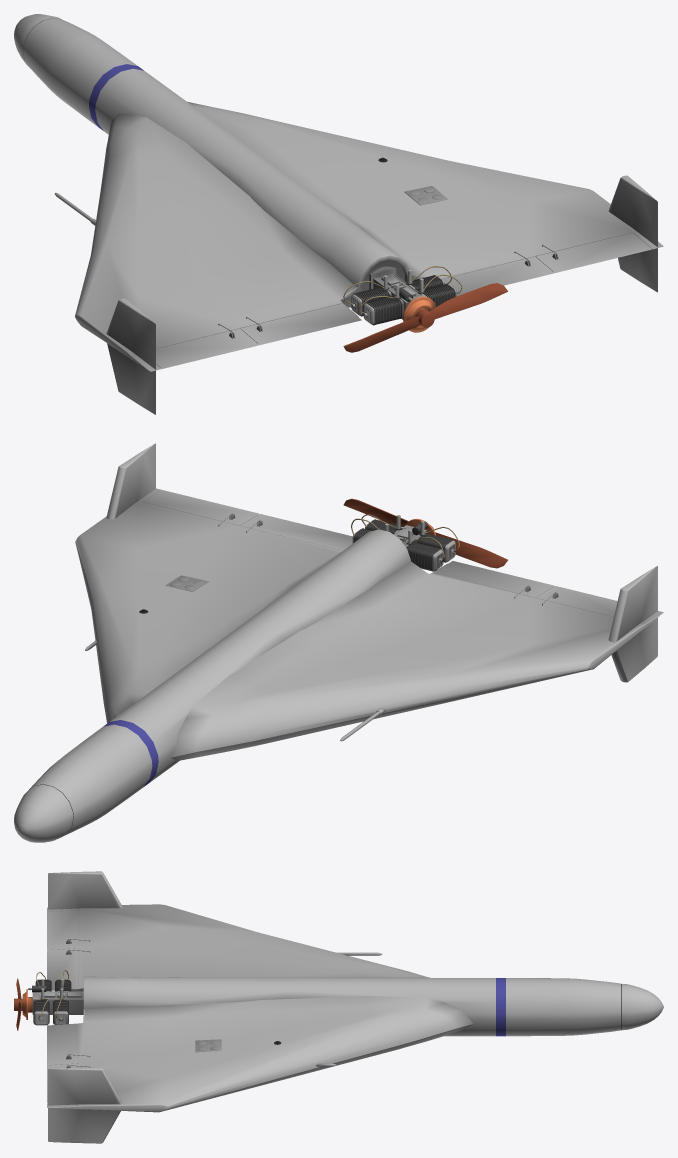
Rendered from d_shahed.glb.
The picture shows the model from 3 angles, top to bottom: view 1: azimuth 30°, elevation 25°; view 2: azimuth 150°, elevation 25°; view 3: azimuth 270°, elevation 25°; orthographic projection. The views are drawn at different scales.
Parts seen in each view (by area): view 1: body|Main, prop|Kayu, prop|Dark_Steel.001, body|Mesin_Silver.002, body|Dark_Steel.001, body|Abu_abu, body|Main.Biru; view 2: body|Main, prop|Kayu, prop|Dark_Steel.001, body|Dark_Steel.001, body|Main.Biru; view 3: body|Main, body|Mesin_Silver.002, body|Main.Biru, prop|Dark_Steel.001, body|Abu_abu.
Boxes of the visible parts, x1=… form: body|Main: x1=14, y1=14, x2=663, y2=414; prop|Kayu: x1=343, y1=283, x2=507, y2=352; prop|Dark_Steel.001: x1=365, y1=284, x2=455, y2=325; body|Mesin_Silver.002: x1=351, y1=266, x2=444, y2=319; body|Dark_Steel.001: x1=353, y1=275, x2=443, y2=316; body|Abu_abu: x1=229, y1=186, x2=558, y2=338; body|Main.Biru: x1=89, y1=64, x2=143, y2=130; body|Main: x1=14, y1=443, x2=663, y2=842; prop|Kayu: x1=343, y1=498, x2=507, y2=568; prop|Dark_Steel.001: x1=366, y1=519, x2=453, y2=562; body|Dark_Steel.001: x1=354, y1=528, x2=441, y2=571; body|Main.Biru: x1=103, y1=720, x2=158, y2=787; body|Main: x1=47, y1=871, x2=663, y2=1143; body|Mesin_Silver.002: x1=32, y1=979, x2=83, y2=1024; body|Main.Biru: x1=496, y1=978, x2=505, y2=1036; prop|Dark_Steel.001: x1=32, y1=979, x2=51, y2=1025; body|Abu_abu: x1=66, y1=939, x2=221, y2=1068.
Bounding box in the file's own units: 2.55 × 0.4402 × 3.49.
